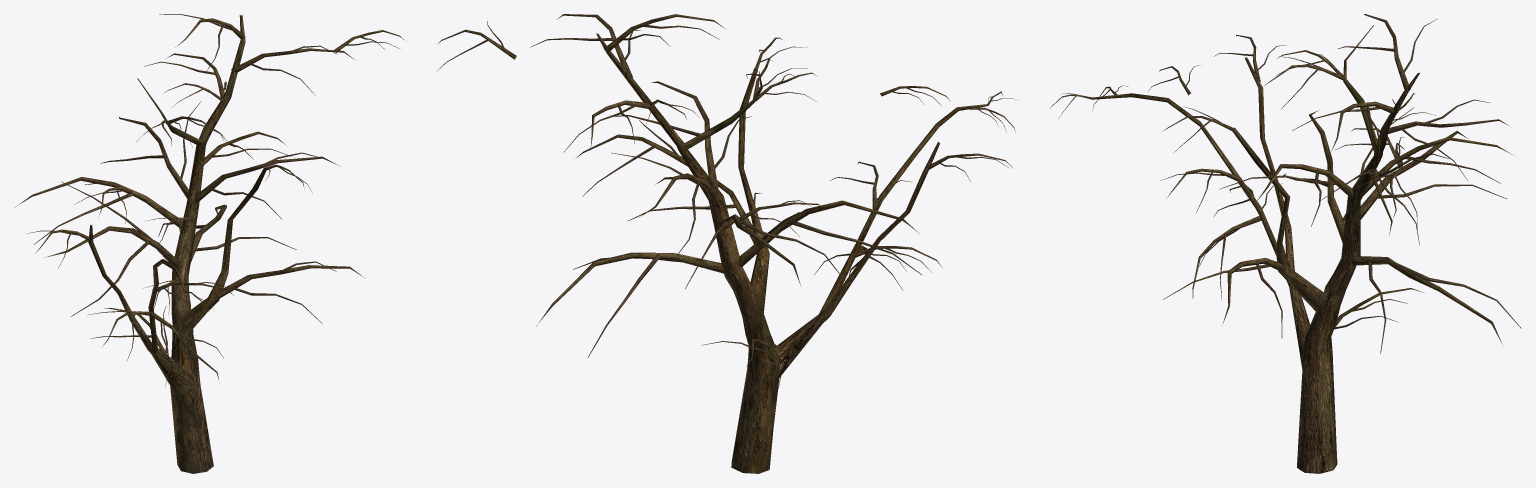
The model's file is tree2.glb.
3 views of the same model, side by side, from view 1: azimuth 30°, elevation 25°; view 2: azimuth 150°, elevation 25°; view 3: azimuth 270°, elevation 25° (orthographic). The views are drawn at different scales.
Visible parts, largest first — view 1: tree small joined; view 2: tree small joined; view 3: tree small joined.
Boxes of the visible parts, x1,y1,x2,y2 form: tree small joined: (15, 14, 406, 473); tree small joined: (437, 14, 1017, 473); tree small joined: (1050, 14, 1521, 473).
Size of what is drawn, in the model's own units: 4.62 by 4.14 by 3.8.
1 material, 1 textured.
